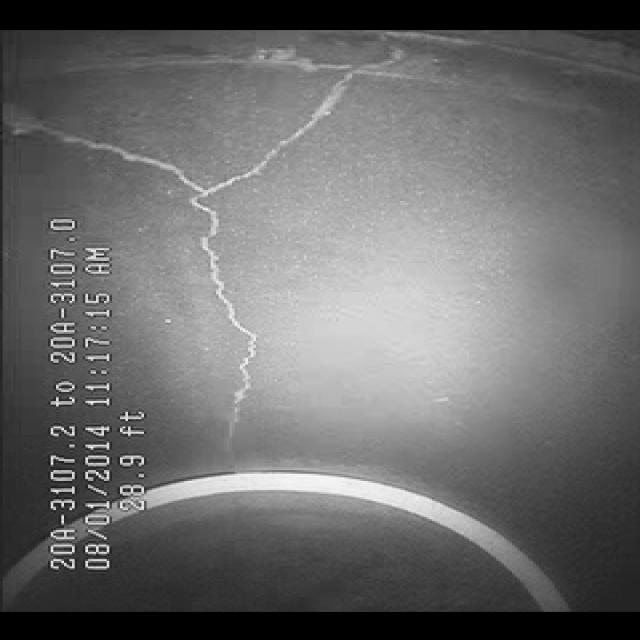Crack: (154, 74, 374, 460)
